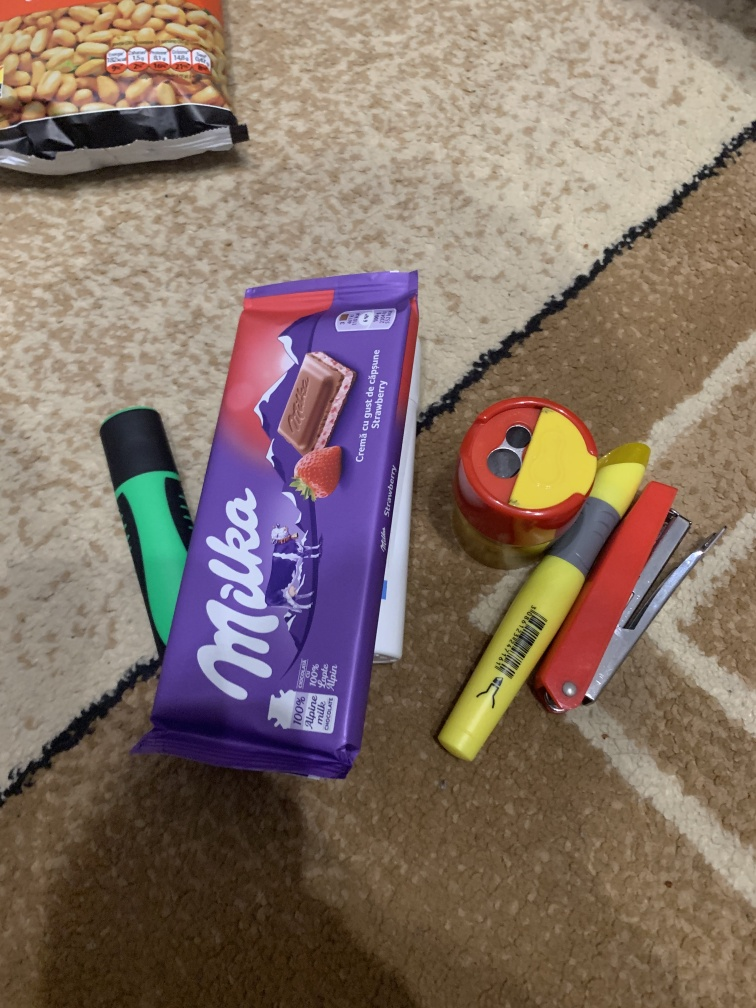milka: (122, 268, 427, 813)
peanuts: (1, 1, 262, 187)
